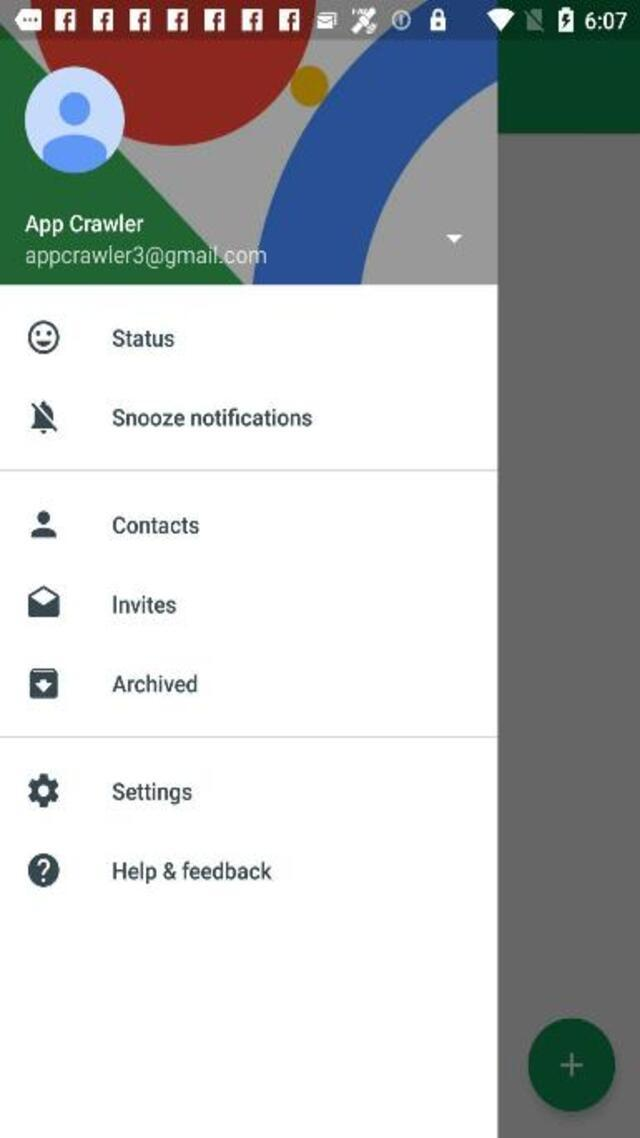Icon: (25, 66, 125, 172), (528, 1016, 616, 1110), (26, 321, 59, 355), (27, 853, 59, 886), (27, 585, 59, 617), (28, 772, 58, 806), (31, 401, 59, 435), (29, 667, 57, 699), (29, 510, 56, 538), (446, 233, 462, 244)
Text: (26, 243, 267, 268), (113, 860, 273, 885), (114, 408, 312, 428), (25, 214, 145, 239), (112, 673, 197, 694), (113, 782, 193, 804), (114, 514, 200, 534), (113, 594, 176, 614), (112, 328, 174, 348)
